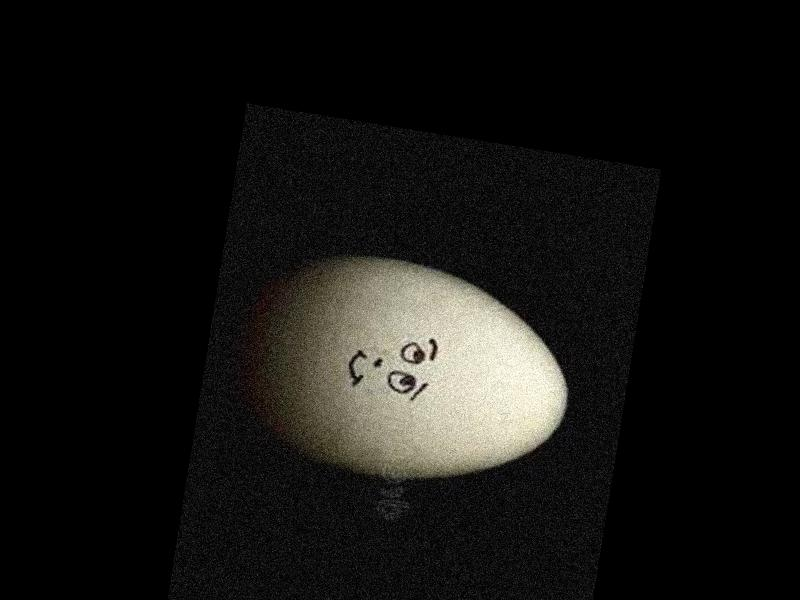Eggs: (234, 240, 586, 502)
